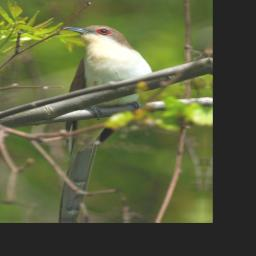Cuckoo: (51, 23, 159, 221)
